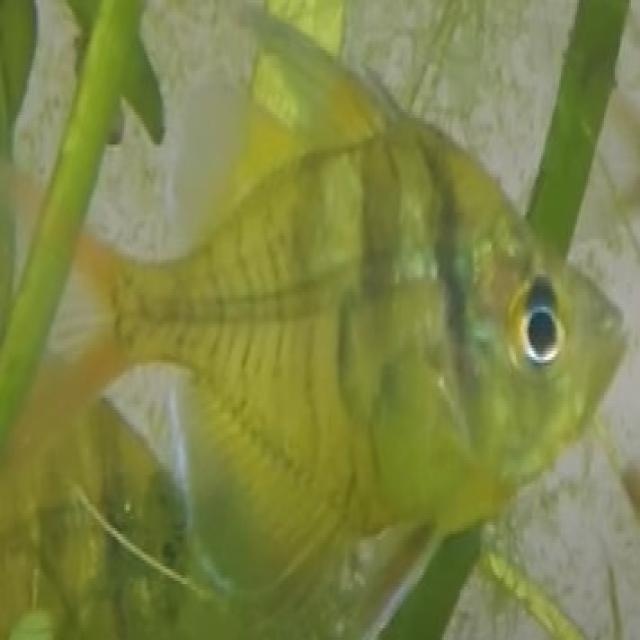Glass-Perchlet: (9, 41, 632, 608)
